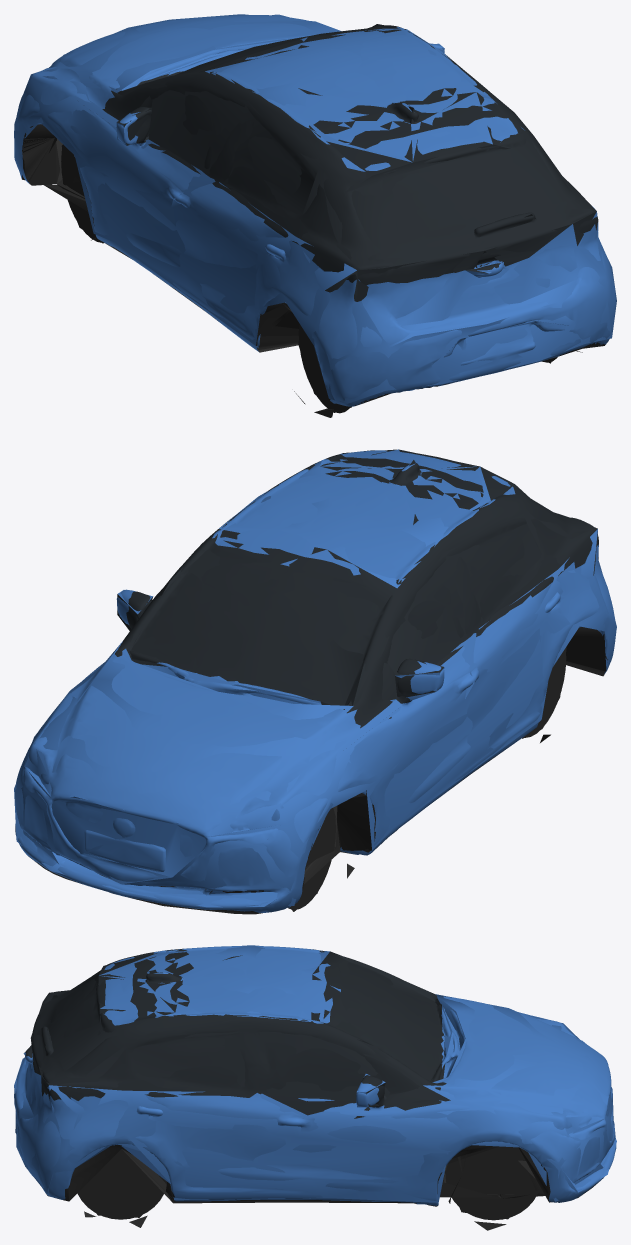
The model's file is mazda-2.glb.
3 views of the same model, one above another, from view 1: azimuth 30°, elevation 25°; view 2: azimuth 150°, elevation 25°; view 3: azimuth 270°, elevation 25° (orthographic). The views are drawn at different scales.
Visible parts, largest first — view 1: body, far; view 2: body, far; view 3: body, far.
Part boxes in pixels (x1=…): body: x1=14, y1=14, x2=615, y2=417; far: x1=14, y1=14, x2=616, y2=417; body: x1=14, y1=450, x2=616, y2=914; far: x1=14, y1=449, x2=616, y2=911; body: x1=14, y1=946, x2=616, y2=1230; far: x1=14, y1=945, x2=616, y2=1227.
Size of the model in its own units: 2.02 by 1.57 by 4.1.
